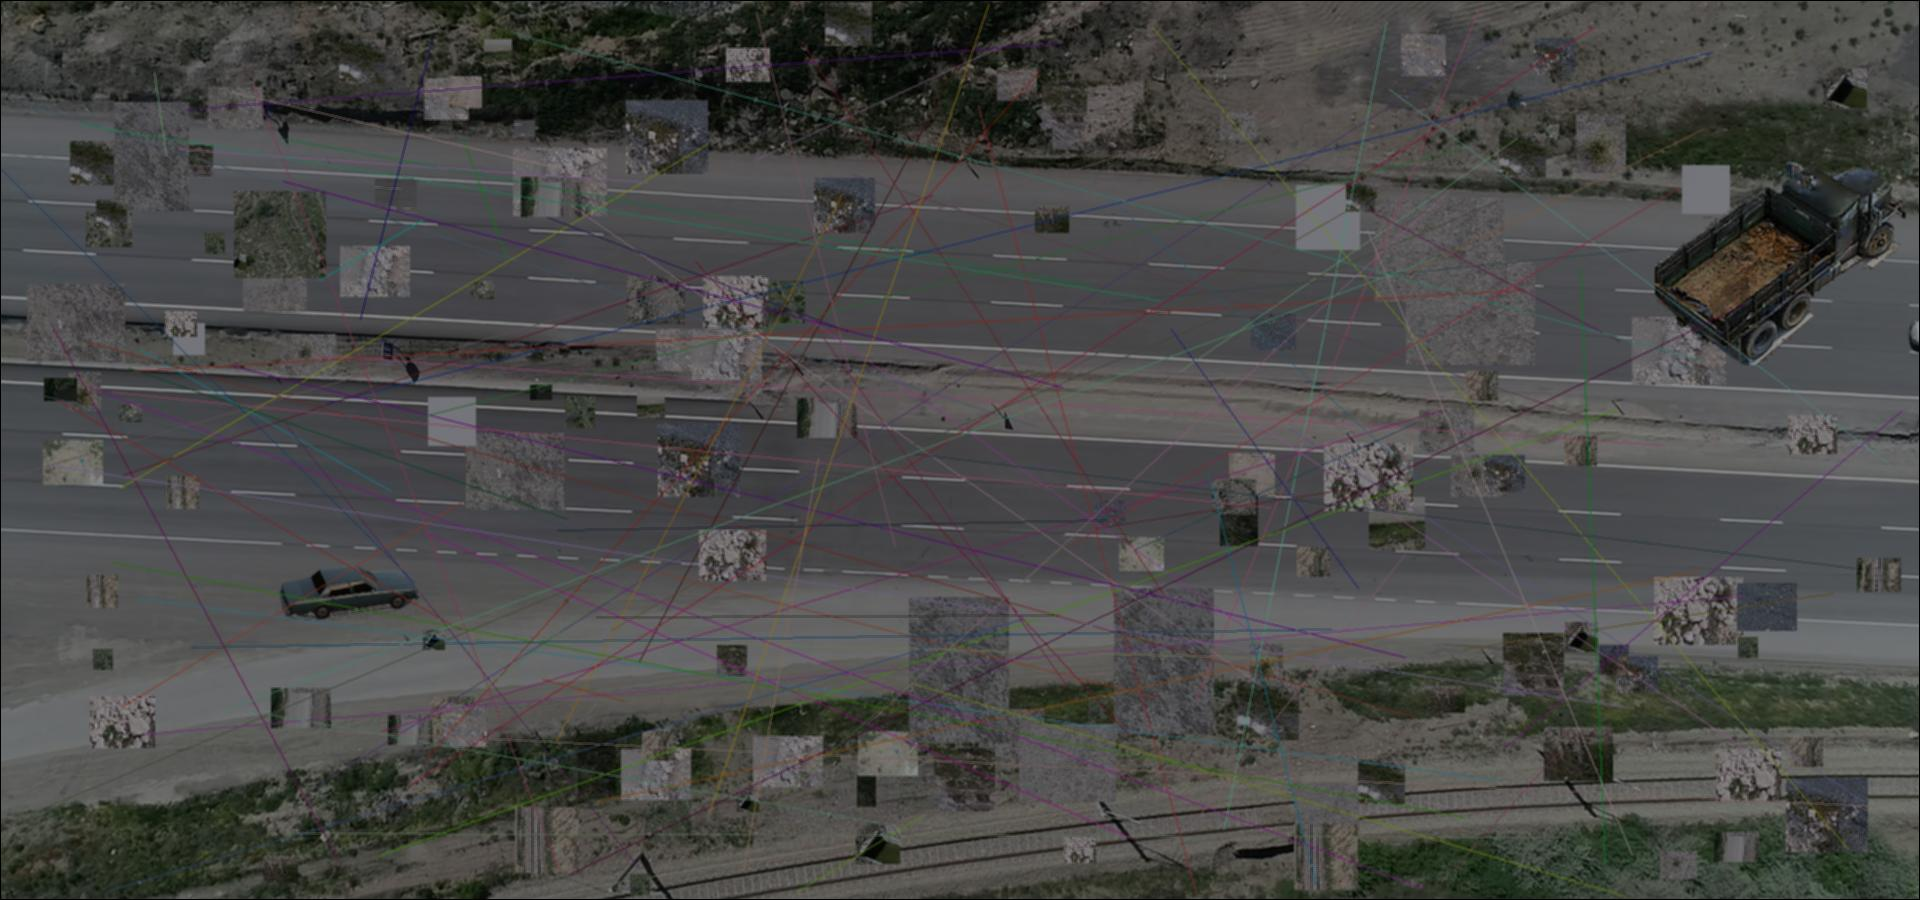arac: (1656, 149, 1908, 365), (276, 564, 424, 620)
